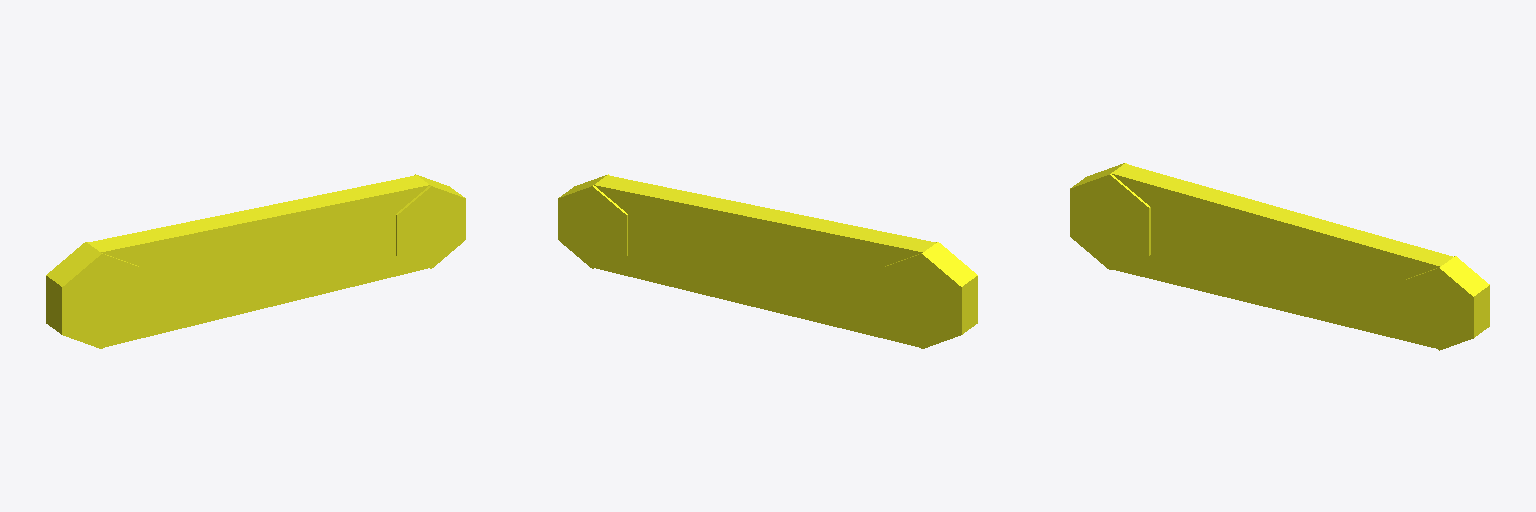
File: arm.obj
3 views of the same model, side by side, from view 1: azimuth 30°, elevation 25°; view 2: azimuth 150°, elevation 25°; view 3: azimuth 330°, elevation 25° (orthographic).
Visible parts, largest first — view 1: Mesh1 Group1 Model; view 2: Mesh1 Group1 Model; view 3: Mesh1 Group1 Model.
Boxes of the visible parts, x1,y1,x2,y2 form: Mesh1 Group1 Model: [46, 174, 465, 348]; Mesh1 Group1 Model: [558, 174, 977, 348]; Mesh1 Group1 Model: [1070, 163, 1489, 350].
Bounding box in the file's own units: 30.62 × 6.95 × 2.17.